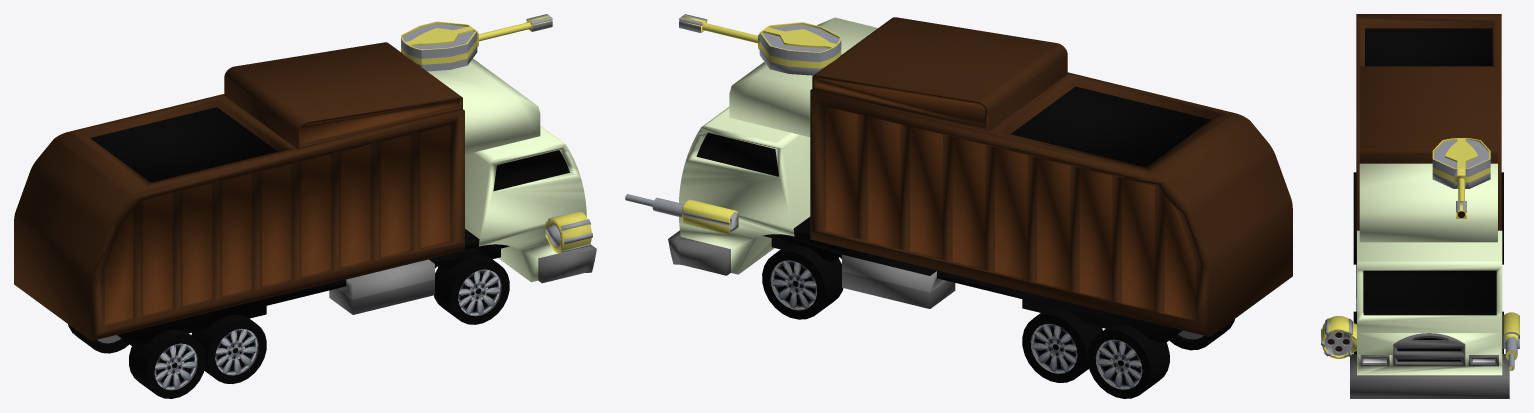
The model's file is Trasher.fbx.
3 renders of one model, left to right at view 1: azimuth 30°, elevation 25°; view 2: azimuth 150°, elevation 25°; view 3: azimuth 270°, elevation 25°, orthographic. The views are drawn at different scales.
Visible parts, largest first — view 1: Group3, skpFD72_3, skpFD72_1, skp289F1, skpFD72_2, skp70CC1, skpFD72_6; view 2: Group3, skpFD72_6, skpFD72_4, skp289F1, skpFD72_5, skp7994_1, skpFD72_3; view 3: Group3, skp289F1, skp70CC1, skp7994_1, skpFD72_2.
Part boxes in pixels (x1,y1,x2,y2): Group3: [14, 42, 596, 346]; skpFD72_3: [129, 329, 205, 398]; skpFD72_1: [434, 255, 509, 324]; skp289F1: [401, 14, 552, 71]; skpFD72_2: [191, 314, 266, 383]; skp70CC1: [545, 211, 592, 253]; skpFD72_6: [68, 324, 129, 353]; Group3: [668, 17, 1292, 343]; skpFD72_6: [1087, 324, 1169, 398]; skpFD72_4: [762, 245, 843, 319]; skp289F1: [679, 14, 841, 75]; skpFD72_5: [1022, 308, 1102, 382]; skp7994_1: [625, 194, 738, 234]; skpFD72_3: [1169, 319, 1234, 350]; Group3: [1350, 14, 1509, 398]; skp289F1: [1432, 138, 1490, 218]; skp70CC1: [1321, 316, 1356, 358]; skp7994_1: [1503, 312, 1519, 370]; skpFD72_2: [1353, 200, 1356, 264].
Bounding box in the file's own units: 3.29 × 1.41 × 1.12.
